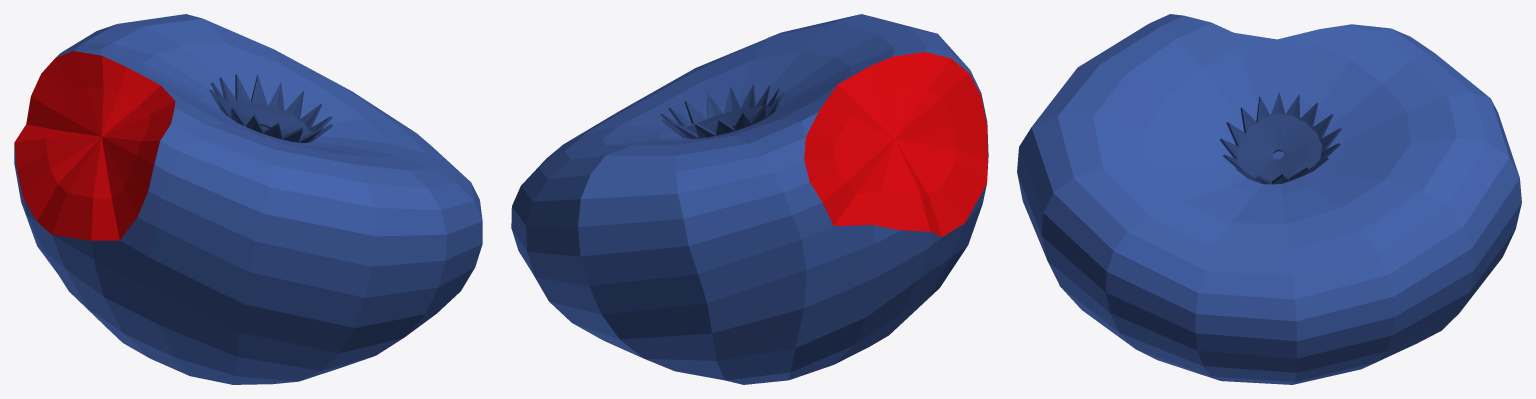
The model's file is Bad_1.fbx.
The picture shows the model from 3 angles, left to right: view 1: azimuth 30°, elevation 25°; view 2: azimuth 150°, elevation 25°; view 3: azimuth 270°, elevation 25°; orthographic projection. The views are drawn at different scales.
Parts seen in each view (by area): view 1: BerryBad.001; view 2: BerryBad.001; view 3: BerryBad.001.
Part boxes in pixels (<box>): BerryBad.001: <box>14,14,482,384</box>; BerryBad.001: <box>511,14,988,384</box>; BerryBad.001: <box>1017,14,1521,384</box>.
Bounding box in the file's own units: 180 × 126 × 202.
